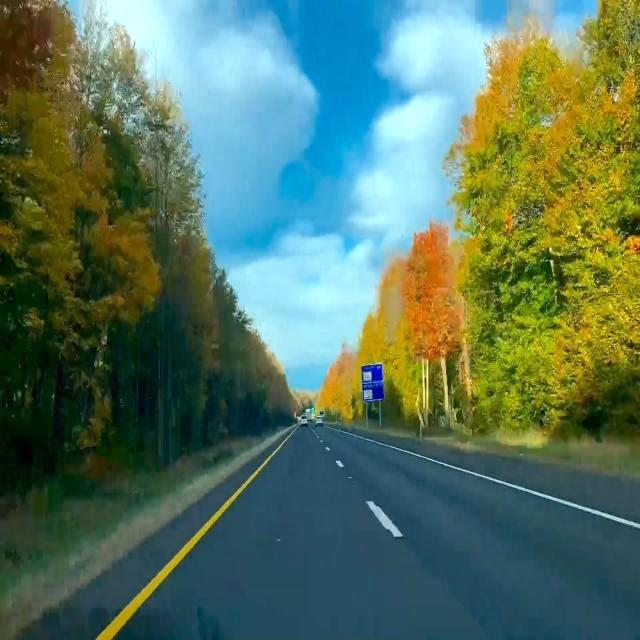road: (116, 427, 639, 639), (17, 459, 260, 639), (386, 439, 639, 521)
